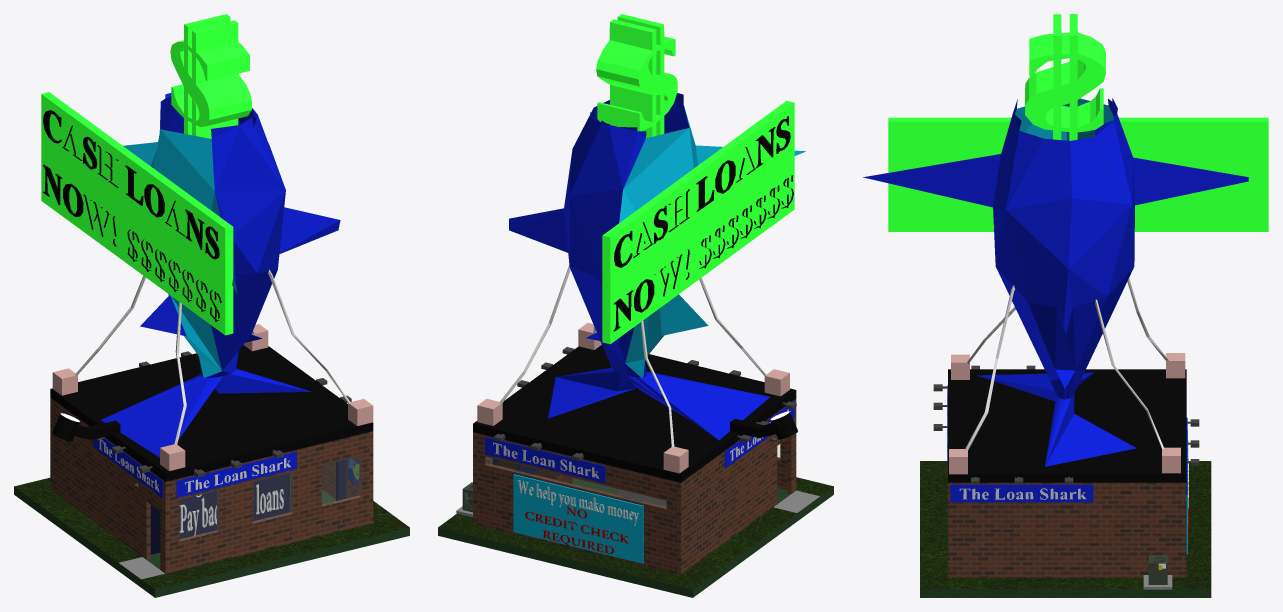
File: TheLoanShark.glb
3 renders of one model, left to right at view 1: azimuth 30°, elevation 25°; view 2: azimuth 150°, elevation 25°; view 3: azimuth 270°, elevation 25°, orthographic. The views are drawn at different scales.
Visible parts, largest first — view 1: SharkBody, Sign, Roof, Front Wall, Ground, Side Wall, Dollar, Int Wall, Small Signs, Anchors, Side Wall.001, Spotlight (+3 smaller); view 2: SharkBody, Sign, Roof, Ground, Side Wall, Back Wall, Signs, Dollar, Small Signs, Anchors, Spotlight, Lights Ext (+1 smaller); view 3: SharkBody, Sign, Roof, Side Wall.001, Ground, Dollar, Small Signs, Anchors, CU, Lights Ext, String.002, String.001.
Boxes of the visible parts, x1=… form: SharkBody: x1=101, y1=93, x2=340, y2=457; Sign: x1=41, y1=92, x2=233, y2=335; Roof: x1=50, y1=345, x2=373, y2=481; Front Wall: x1=169, y1=432, x2=369, y2=572; Ground: x1=14, y1=472, x2=409, y2=597; Side Wall: x1=50, y1=397, x2=169, y2=573; Dollar: x1=170, y1=14, x2=251, y2=138; Int Wall: x1=150, y1=459, x2=346, y2=554; Small Signs: x1=93, y1=438, x2=296, y2=497; Anchors: x1=52, y1=324, x2=373, y2=470; Side Wall.001: x1=321, y1=431, x2=373, y2=523; Spotlight: x1=52, y1=413, x2=120, y2=441; SharkBody: x1=509, y1=93, x2=805, y2=440; Sign: x1=602, y1=100, x2=794, y2=344; Roof: x1=473, y1=345, x2=796, y2=482; Ground: x1=438, y1=477, x2=833, y2=597; Side Wall: x1=677, y1=399, x2=796, y2=574; Back Wall: x1=477, y1=433, x2=676, y2=573; Signs: x1=513, y1=474, x2=643, y2=563; Dollar: x1=596, y1=14, x2=677, y2=138; Small Signs: x1=485, y1=401, x2=794, y2=483; Anchors: x1=477, y1=323, x2=789, y2=473; Spotlight: x1=730, y1=411, x2=797, y2=439; Lights Ext: x1=493, y1=347, x2=796, y2=460; SharkBody: x1=863, y1=98, x2=1248, y2=466; Sign: x1=888, y1=117, x2=1268, y2=231; Roof: x1=948, y1=369, x2=1186, y2=482; Side Wall.001: x1=948, y1=482, x2=1186, y2=577; Ground: x1=920, y1=461, x2=1211, y2=597; Dollar: x1=1025, y1=14, x2=1105, y2=140; Small Signs: x1=947, y1=385, x2=1187, y2=502; Anchors: x1=949, y1=353, x2=1185, y2=474; CU: x1=1143, y1=555, x2=1172, y2=589; Lights Ext: x1=933, y1=365, x2=1199, y2=484; String.002: x1=965, y1=285, x2=1014, y2=449; String.001: x1=1095, y1=299, x2=1164, y2=448.
Size of what is drawn, in the model's own units: 10.97 by 17.93 by 12.98.
Materials: 46 (5 with a texture image).
